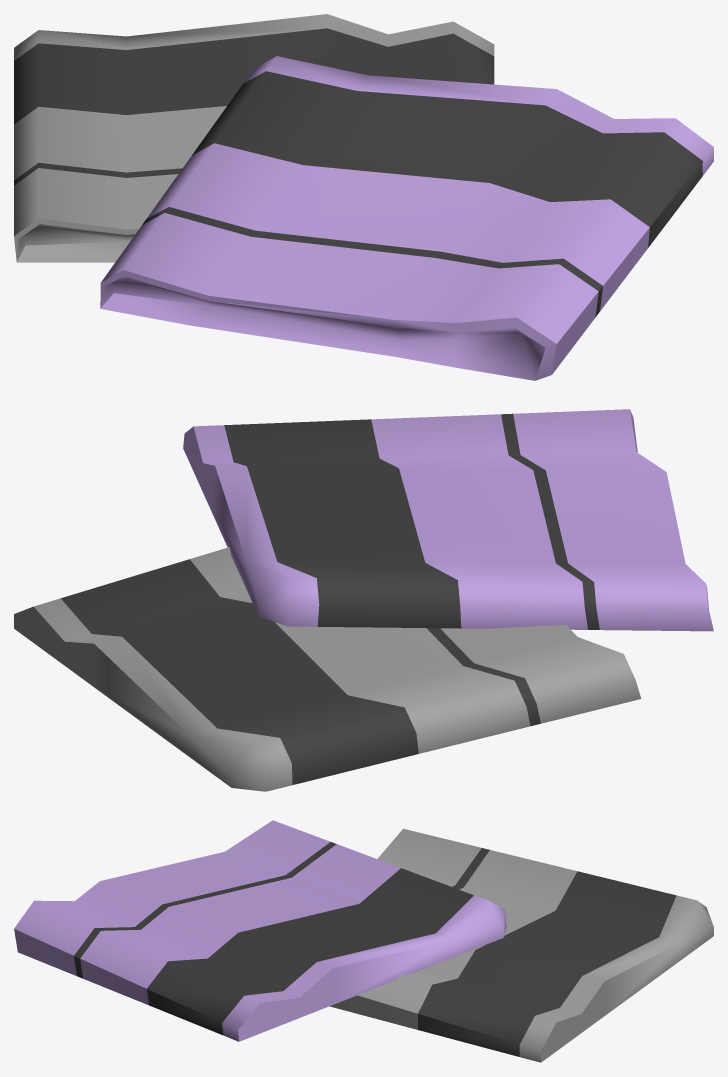
File: Ropa2.obj
3 renders of one model, top to bottom at view 1: azimuth 30°, elevation 25°; view 2: azimuth 150°, elevation 25°; view 3: azimuth 270°, elevation 25°, orthographic. The views are drawn at different scales.
Visible parts, largest first — view 1: clothes_002; view 2: clothes_002; view 3: clothes_002.
Part boxes in pixels (x1,y1,x2,y2): clothes_002: [14, 14, 713, 380]; clothes_002: [14, 409, 713, 791]; clothes_002: [14, 820, 713, 1062].
Size of the model in its own units: 5.15 by 0.7528 by 6.97.
1 material, 1 textured.
